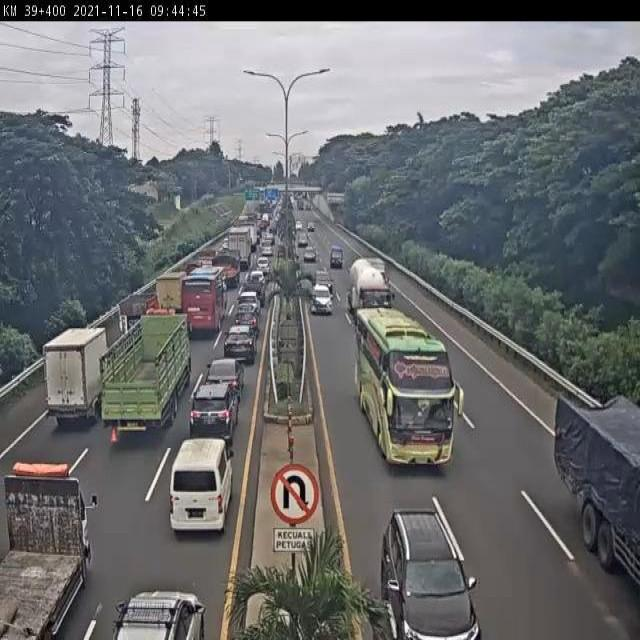big bus: (357, 308, 467, 472), (179, 270, 230, 334)
car: (378, 512, 483, 640), (188, 386, 236, 451), (204, 361, 245, 403), (221, 329, 253, 368), (232, 308, 259, 335), (236, 288, 261, 316)
small bus: (168, 437, 234, 532)
small truck: (153, 275, 186, 321)
truck-l-: (100, 314, 189, 434)
truck-m-: (46, 327, 107, 425), (115, 293, 157, 336)
